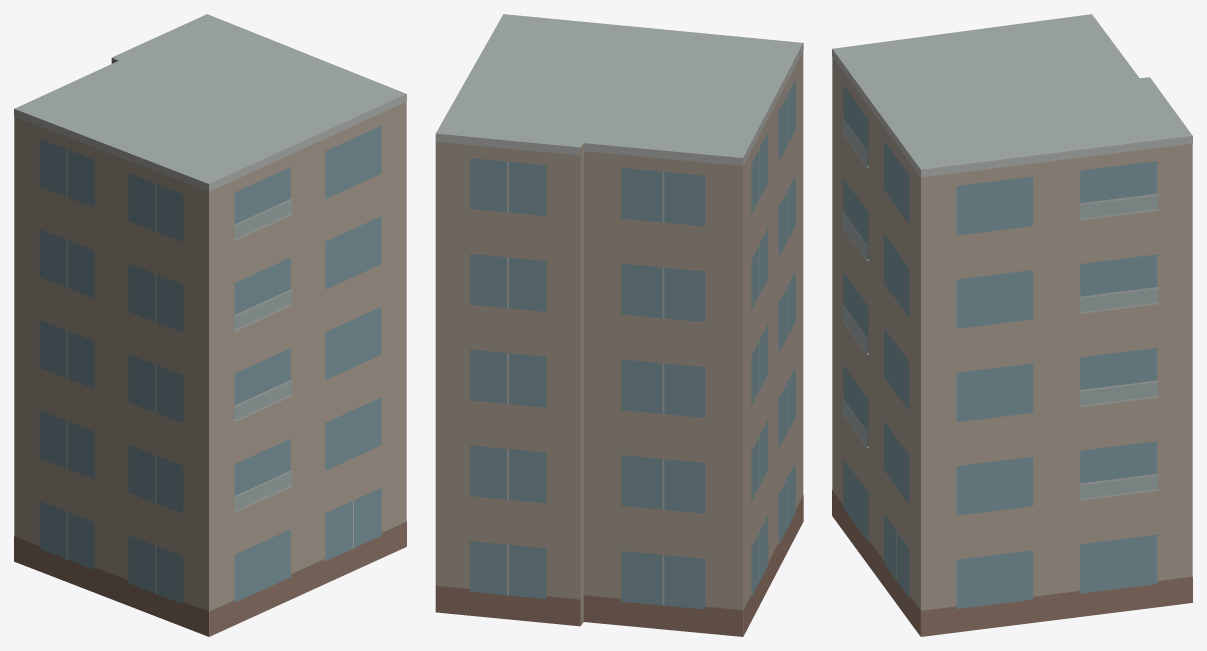
File: survey-upis-32780694.glb
The picture shows the model from 3 angles, left to right: view 1: azimuth 30°, elevation 25°; view 2: azimuth 150°, elevation 25°; view 3: azimuth 270°, elevation 25°; orthographic projection. The views are drawn at different scales.
Parts seen in each view (by area): view 1: survey-upis-32780694.tmp; view 2: survey-upis-32780694.tmp; view 3: survey-upis-32780694.tmp.
Boxes of the visible parts, x1,y1,x2,y2 form: survey-upis-32780694.tmp: [14, 14, 406, 636]; survey-upis-32780694.tmp: [435, 14, 803, 636]; survey-upis-32780694.tmp: [832, 14, 1192, 636].
Bounding box in the file's own units: 10.39 × 14.5 × 10.16.
